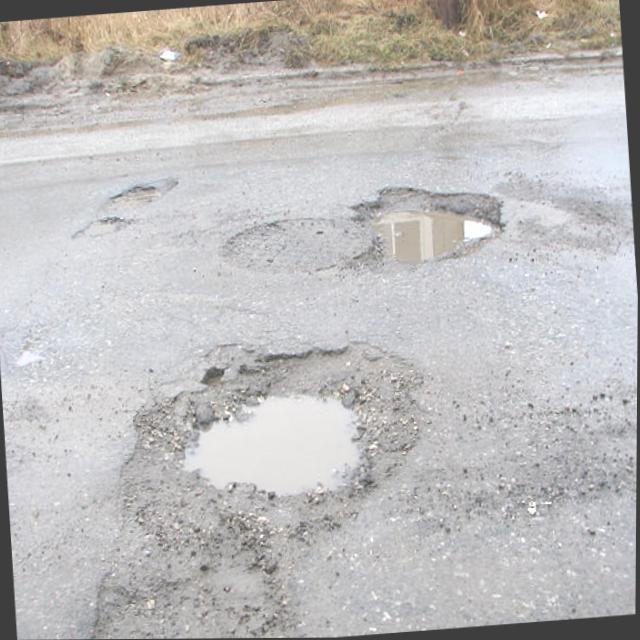Pothole: (87, 340, 431, 639), (349, 182, 502, 274), (113, 181, 171, 212), (76, 215, 127, 237)
